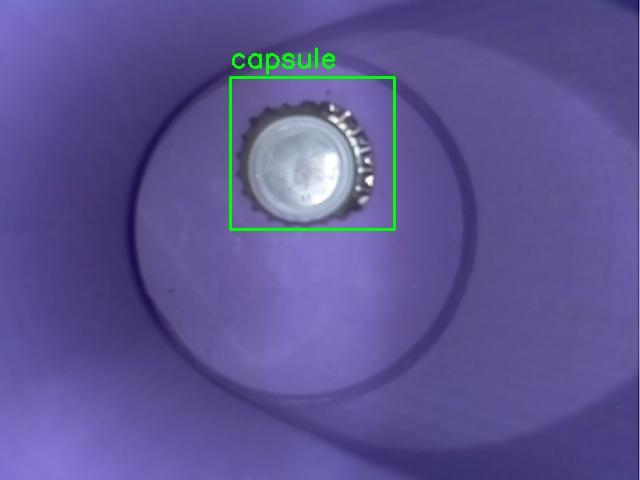capsule: (230, 77, 394, 229)
